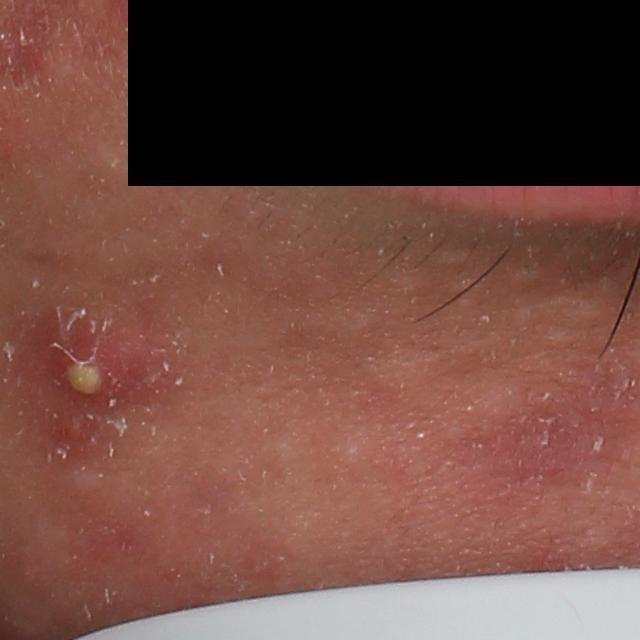hypertrophic_scar: (50, 466, 108, 502), (533, 328, 585, 350), (428, 248, 474, 269), (511, 261, 543, 284)
pustule: (40, 318, 147, 415)
